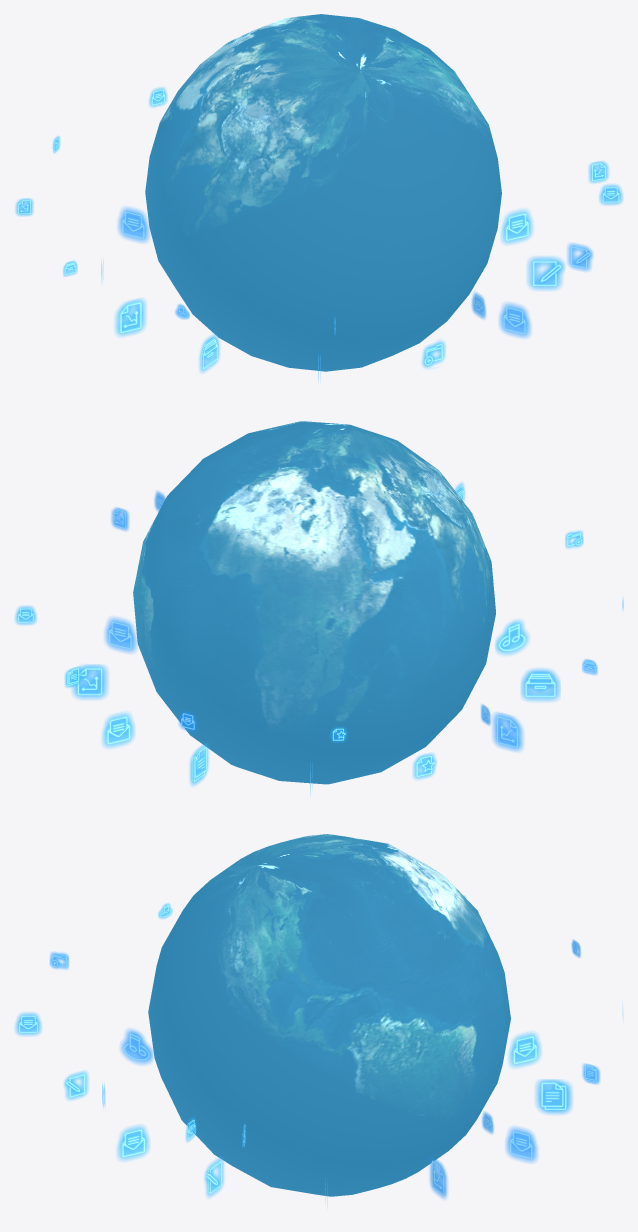
The model's file is centerpiece display globe 2.glb.
3 renders of one model, top to bottom at view 1: azimuth 30°, elevation 25°; view 2: azimuth 150°, elevation 25°; view 3: azimuth 270°, elevation 25°, orthographic.
Visible parts, largest first — view 1: Sphere002_Material #3_0.001; view 2: Sphere002_Material #3_0.001; view 3: Sphere002_Material #3_0.001.
Part boxes in pixels (left/top/right/bottom): Sphere002_Material #3_0.001: left=15, top=14, right=622, bottom=380; Sphere002_Material #3_0.001: left=15, top=421, right=623, bottom=794; Sphere002_Material #3_0.001: left=15, top=834, right=623, bottom=1205.
Bounding box in the file's own units: 8.55 × 5.12 × 8.68.
Materials: 2 (2 with a texture image).
